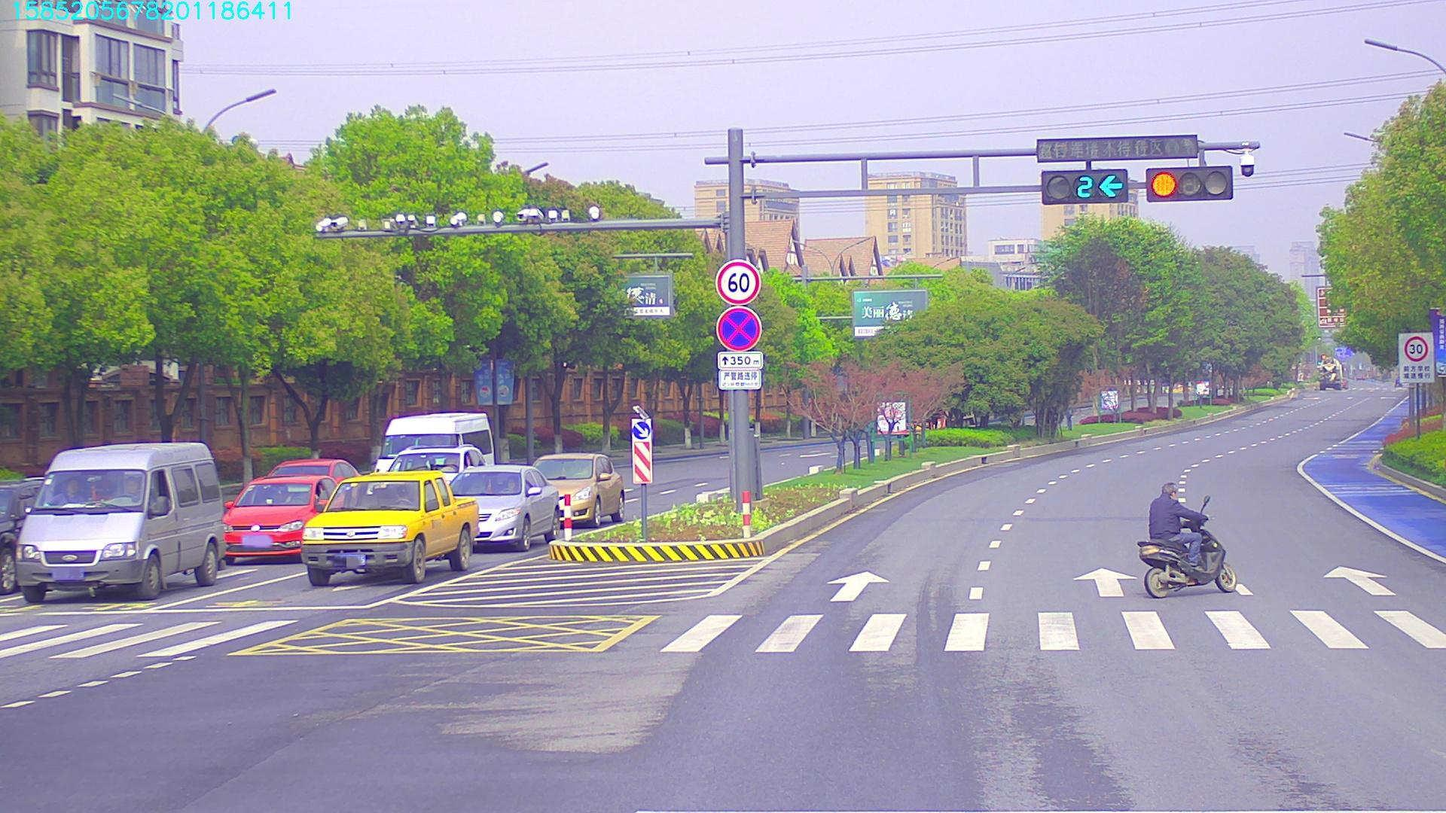green: (1039, 172, 1127, 200)
red: (1152, 167, 1232, 200)
